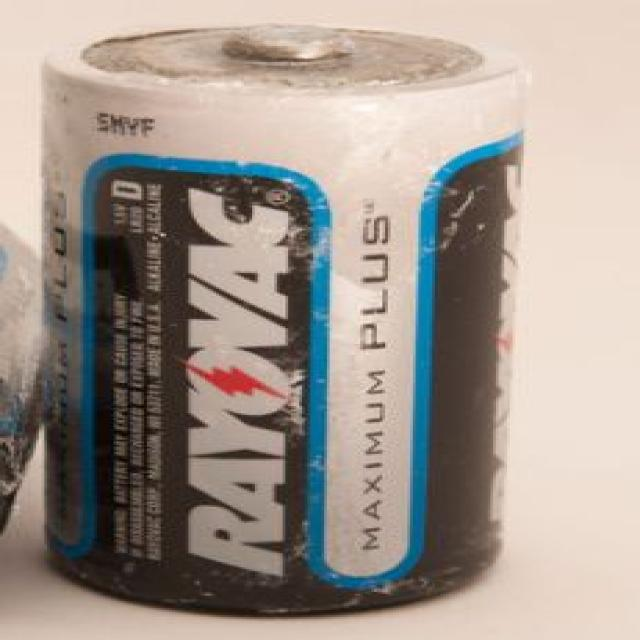electronic: (24, 19, 565, 622)
